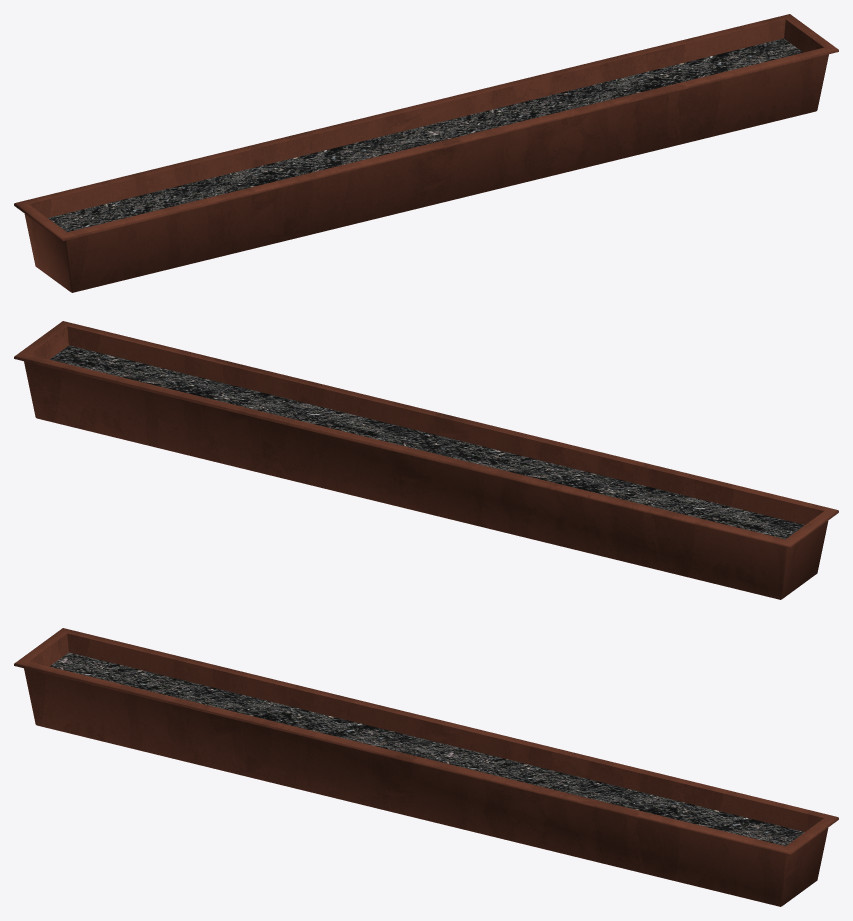
File: vazon.fbx
The picture shows the model from 3 angles, top to bottom: view 1: azimuth 30°, elevation 25°; view 2: azimuth 150°, elevation 25°; view 3: azimuth 330°, elevation 25°; orthographic projection.
Visible parts, largest first — view 1: Cube.087_70; view 2: Cube.087_70; view 3: Cube.087_70.
Part boxes in pixels (box(x1,y1,x2,y2)): Cube.087_70: box(14, 14, 838, 292); Cube.087_70: box(14, 321, 838, 599); Cube.087_70: box(14, 628, 838, 906).
Size of the model in its own units: 191 by 14.91 by 20.69.
